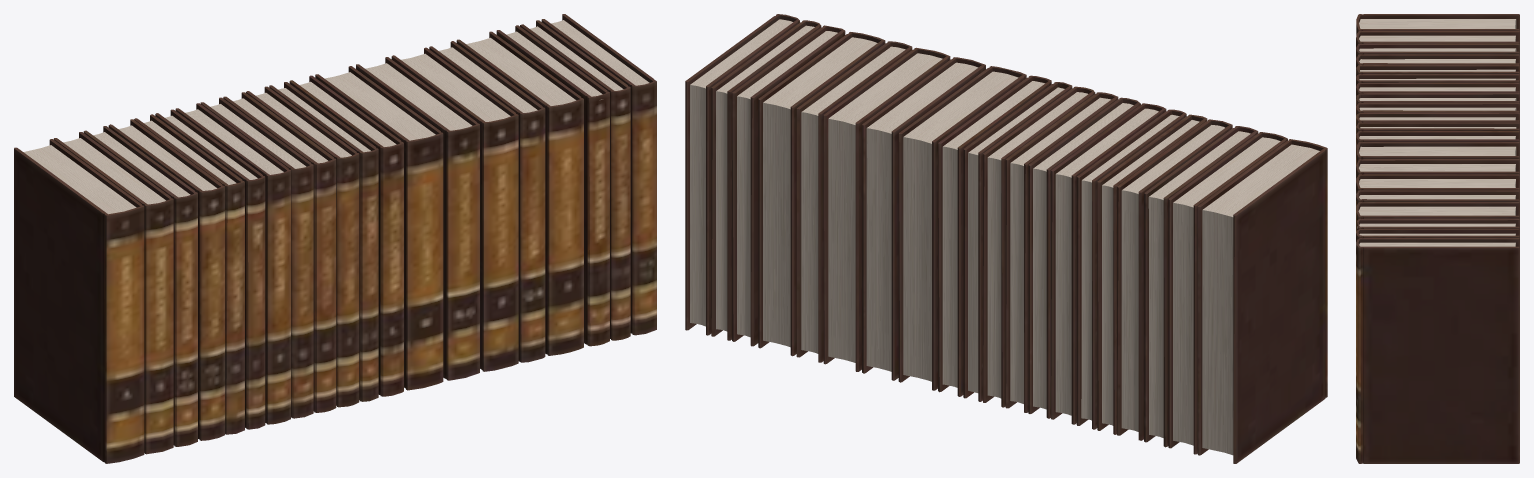
Rendered from book_encyclopedia_set_01.glb.
3 renders of one model, left to right at view 1: azimuth 30°, elevation 25°; view 2: azimuth 150°, elevation 25°; view 3: azimuth 270°, elevation 25°, orthographic. The views are drawn at different scales.
Parts seen in each view (by area): view 1: book_encyclopedia_set_01_book01; view 2: book_encyclopedia_set_01_book01; view 3: book_encyclopedia_set_01_book01.
Boxes of the visible parts, x1,y1,x2,y2 form: book_encyclopedia_set_01_book01: [14, 14, 656, 463]; book_encyclopedia_set_01_book01: [685, 14, 1327, 463]; book_encyclopedia_set_01_book01: [1356, 14, 1519, 463].
Size of the model in its own units: 0.5513 by 0.2374 by 0.1631.
Materials: 2 (2 with a texture image).
